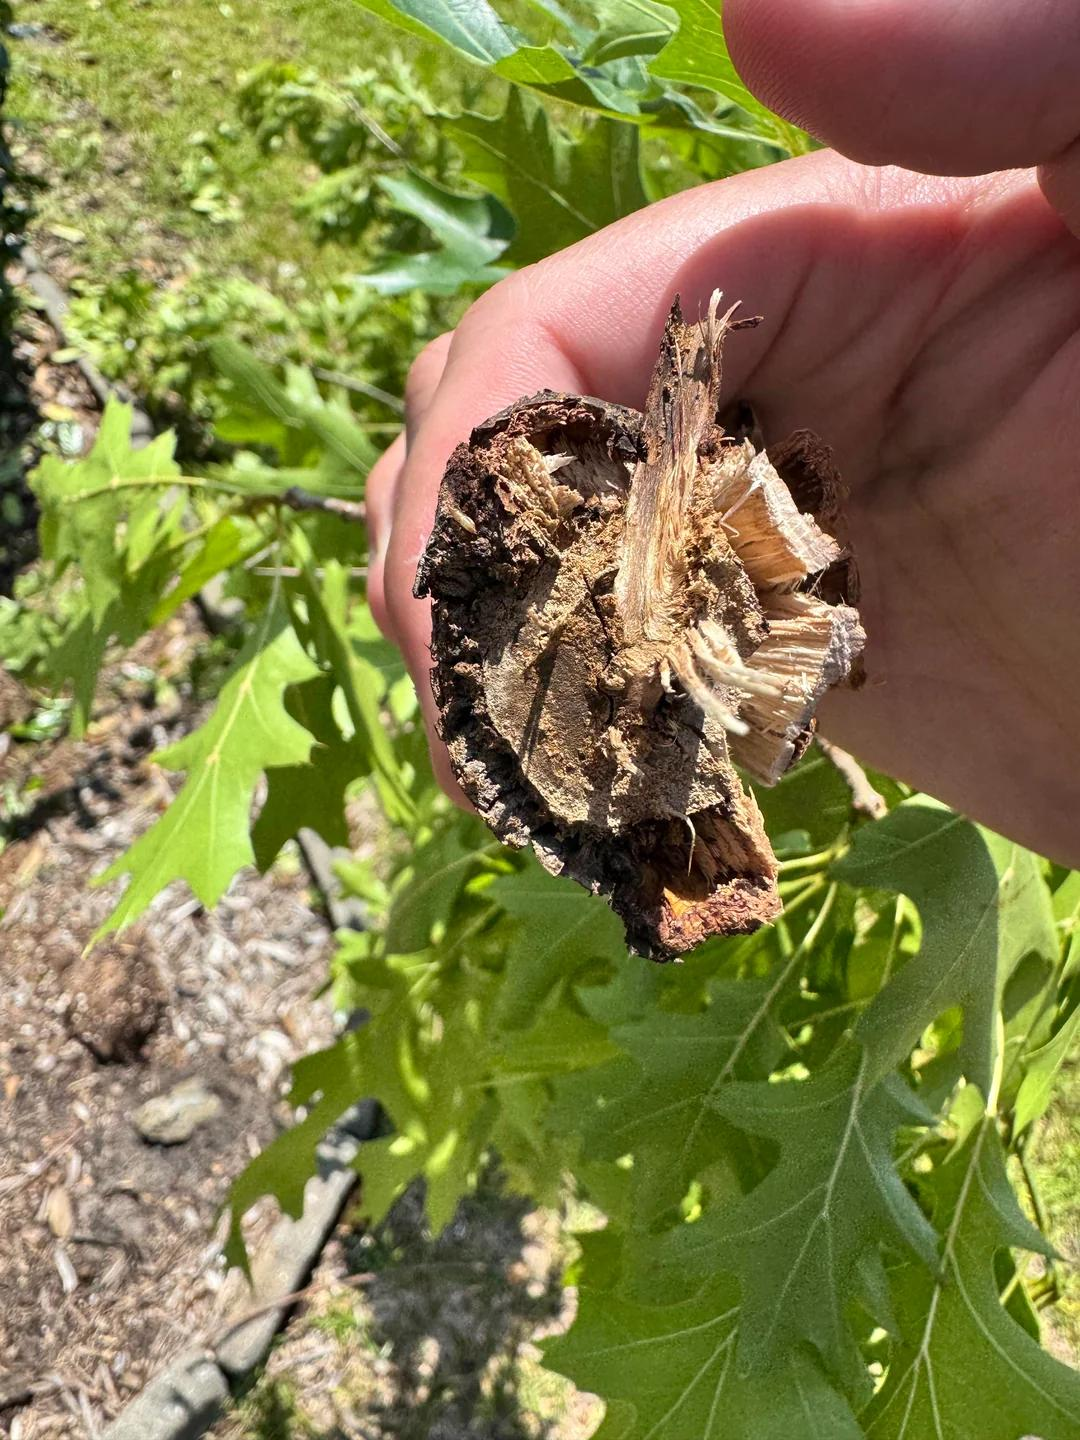mechanical damage: (415, 293, 864, 957), (616, 291, 735, 643)
